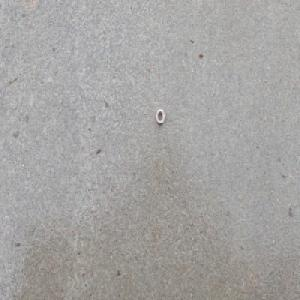Nut: (155, 108, 165, 125)
